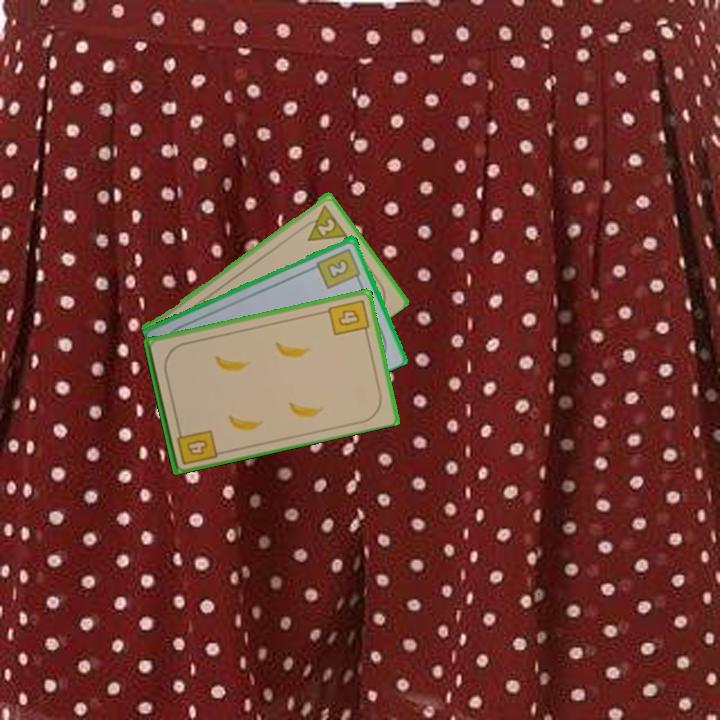2b: (313, 245, 364, 291)
2p: (298, 201, 349, 244)
4b: (173, 423, 220, 467), (325, 296, 372, 338)
